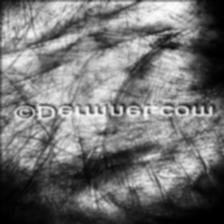Unclassified: (0, 0, 219, 101), (0, 118, 224, 182)
